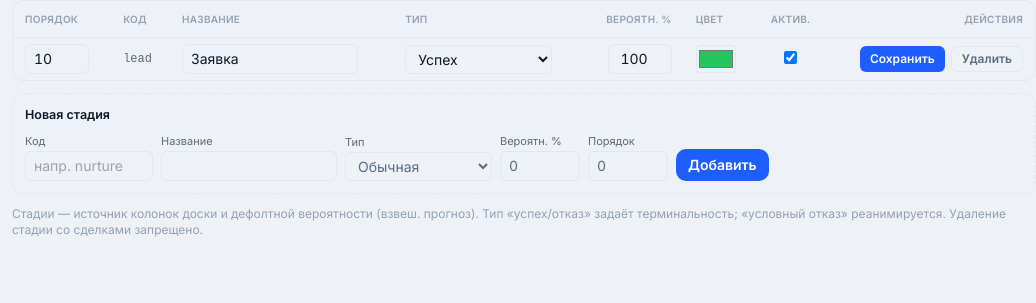
Test: DealStageEditor › удаление стадии со сделками (409) показывает причину из detail, стадию не убирает
Check: the field showing "Заявка" is shown, box top-left (182, 44), bottom-right (358, 74)
Click the button "Удалить".
click(987, 59)  # box top-left (951, 46), bottom-right (1023, 72)
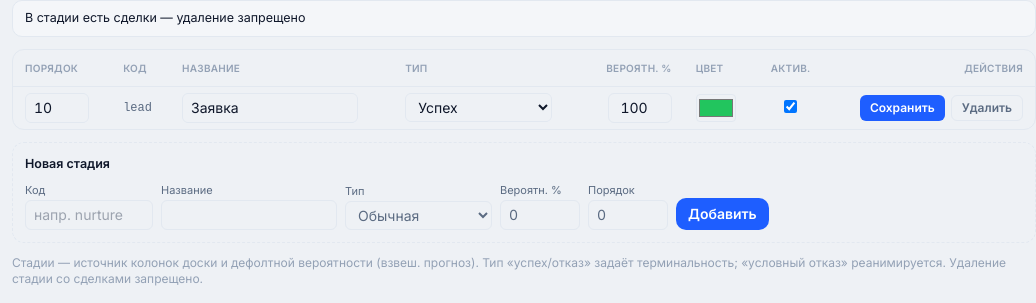
Check: the text "В стадии есть сделки — удаление запрещено" is shown, box top-left (12, 0), bottom-right (1035, 37)
